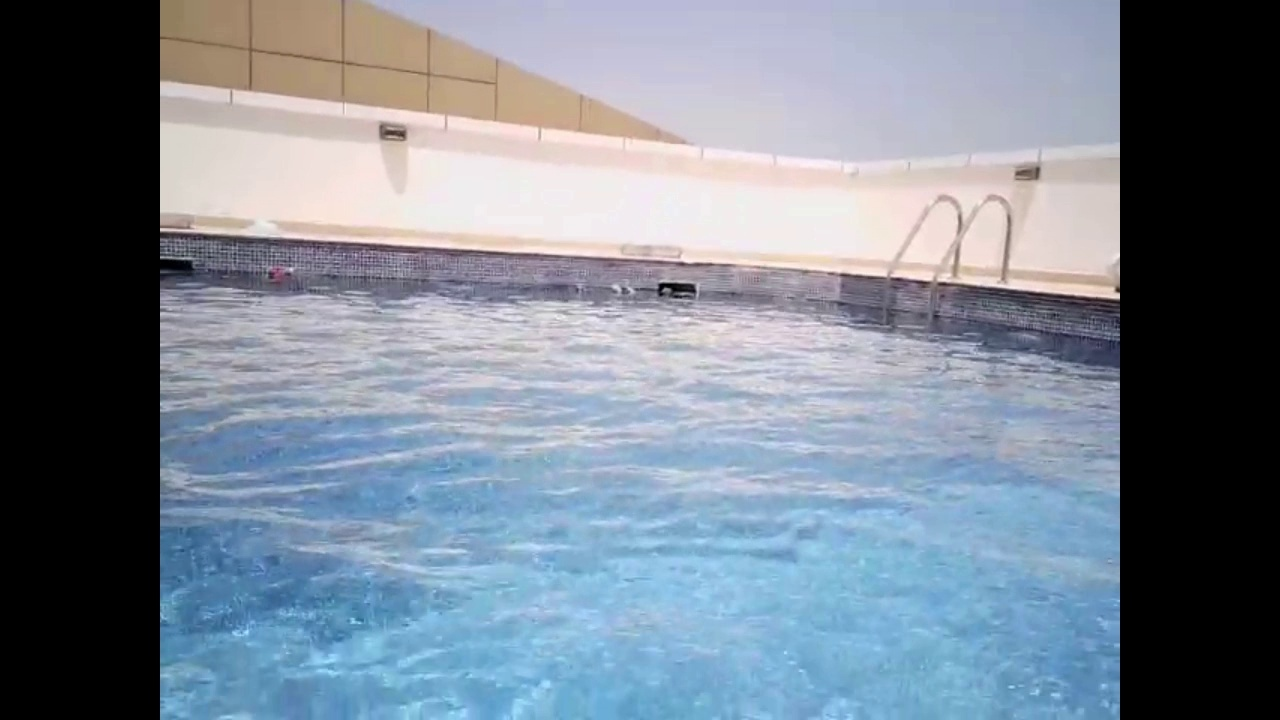debris: (278, 264, 301, 279), (266, 266, 286, 283), (606, 281, 624, 299), (658, 283, 676, 299), (573, 279, 589, 297), (621, 283, 636, 299)
